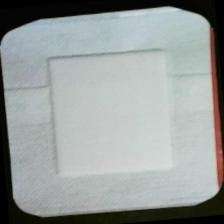Dressing: (1, 1, 224, 223)
Red_T: (191, 26, 224, 198)
